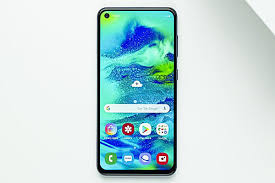samsung: (95, 3, 180, 180)
